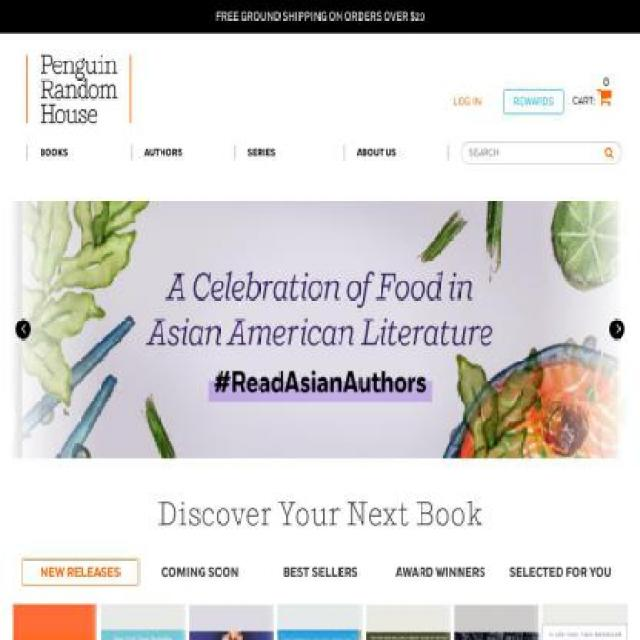button: (502, 89, 564, 114), (234, 146, 344, 160), (26, 146, 131, 160), (343, 146, 448, 160), (132, 146, 235, 160), (440, 89, 494, 114), (15, 319, 31, 339), (609, 319, 625, 339)
field: (461, 141, 622, 164), (598, 136, 620, 169)
